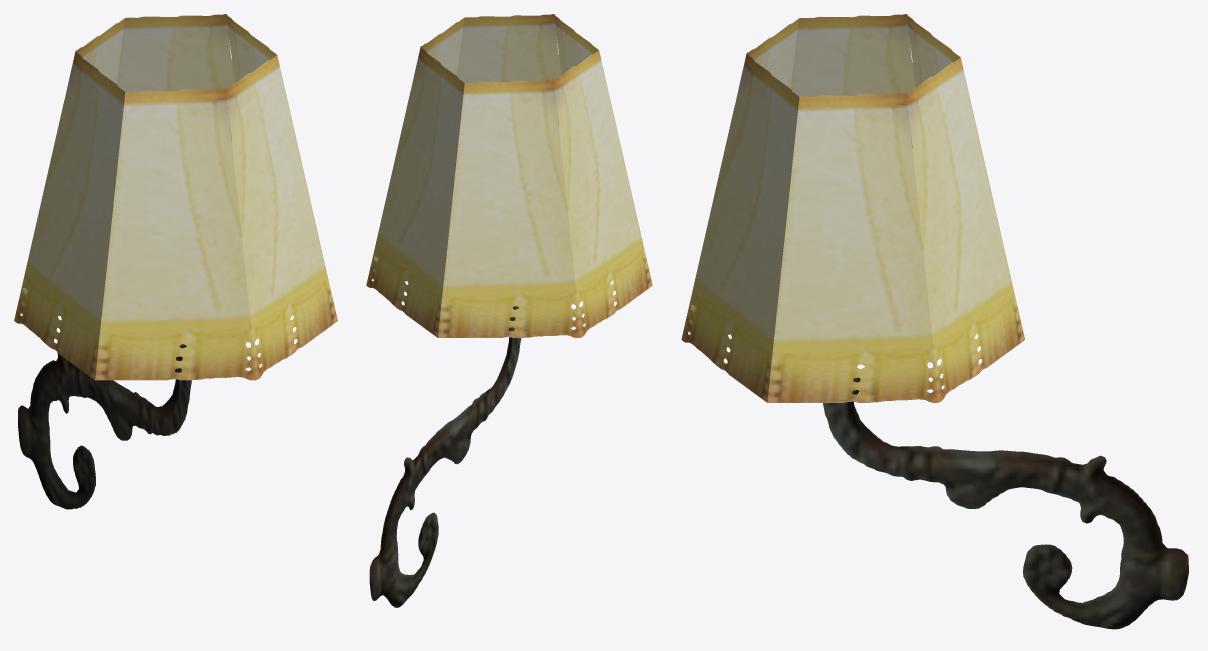
File: Lamp on.fbx
The picture shows the model from 3 angles, left to right: view 1: azimuth 30°, elevation 25°; view 2: azimuth 150°, elevation 25°; view 3: azimuth 270°, elevation 25°; orthographic projection. The views are drawn at different scales.
Visible parts, largest first — view 1: Lamp on; view 2: Lamp on; view 3: Lamp on.
Part boxes in pixels (x1,y1,x2,y2): Lamp on: (14,14,337,509); Lamp on: (366,14,652,607); Lamp on: (681,14,1188,629).
Bounding box in the file's own units: 59.39 × 129 × 102.
1 material, 1 textured.
